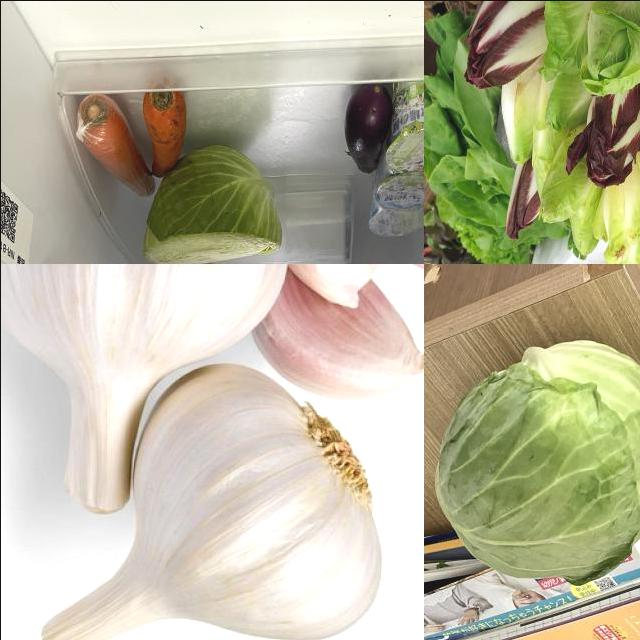cabbage: (431, 337, 640, 590), (141, 133, 281, 264)
carrot: (73, 92, 157, 200), (146, 75, 189, 188)
eggplant: (346, 84, 391, 175)
garlic: (40, 362, 383, 640), (1, 264, 286, 508), (248, 264, 424, 404), (264, 264, 385, 312)
